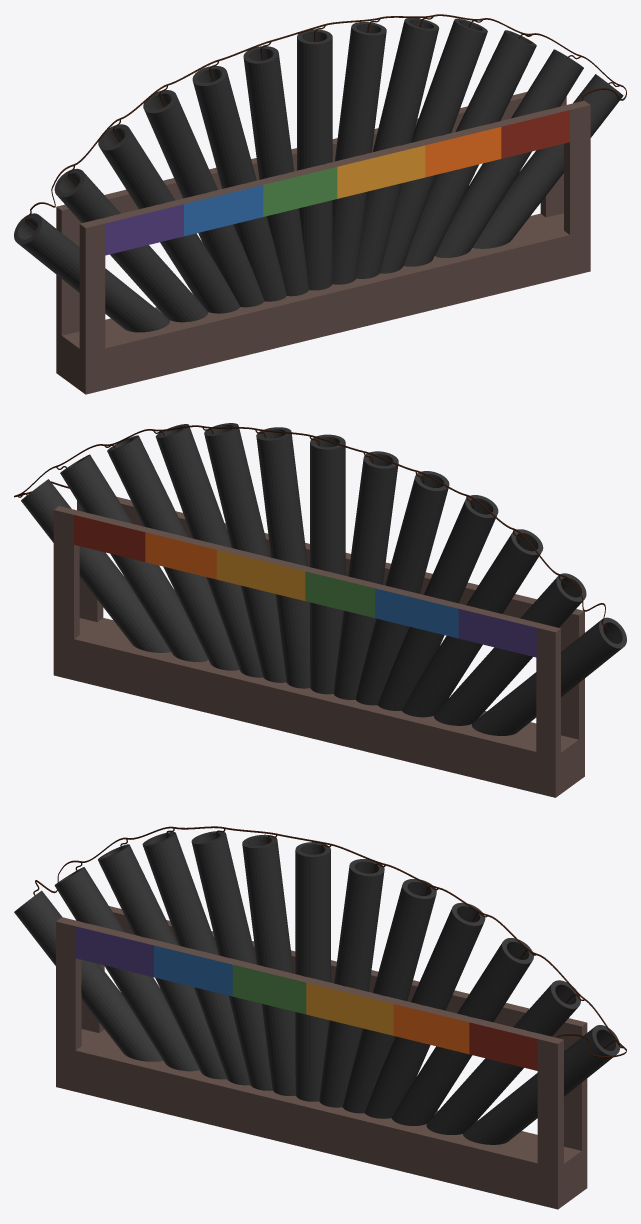
File: Rainbow13Rack.fbx
3 views of the same model, one above another, from view 1: azimuth 30°, elevation 25°; view 2: azimuth 150°, elevation 25°; view 3: azimuth 330°, elevation 25° (orthographic).
Parts seen in each view (by area): view 1: Cube, Cylinder.001, Cylinder.012, Cylinder.003, Cylinder.002, Cylinder.005, Cylinder.006, Cylinder.004, Cylinder, Cylinder.007, Cylinder.008, Cylinder.010 (+3 smaller); view 2: Cube, Cylinder.001, Cylinder.012, Cylinder.003, Cylinder.002, Cylinder.005, Cylinder.006, Cylinder.004, Cylinder, Cylinder.008, Cylinder.007, Cylinder.010 (+3 smaller); view 3: Cube, Cylinder.012, Cylinder.002, Cylinder.004, Cylinder.001, Cylinder, Cylinder.003, Cylinder.005, Cylinder.007, Cylinder.006, Cylinder.010, Cylinder.008 (+3 smaller).
Part boxes in pixels (left/top/right/bottom): Cube: left=56, top=92, right=590, bottom=394; Cylinder.001: left=332, top=22, right=386, bottom=284; Cylinder.012: left=297, top=29, right=332, bottom=290; Cylinder.003: left=356, top=18, right=439, bottom=278; Cylinder.002: left=243, top=46, right=308, bottom=296; Cylinder.005: left=379, top=18, right=487, bottom=273; Cylinder.006: left=403, top=30, right=536, bottom=266; Cylinder.004: left=192, top=66, right=286, bottom=301; Cylinder: left=143, top=90, right=264, bottom=307; Cylinder.007: left=98, top=124, right=240, bottom=313; Cylinder.008: left=435, top=49, right=583, bottom=257; Cylinder.010: left=54, top=168, right=208, bottom=322; Cube: left=53, top=496, right=584, bottom=797; Cylinder.001: left=256, top=427, right=310, bottom=688; Cylinder.012: left=310, top=434, right=345, bottom=694; Cylinder.003: left=204, top=423, right=286, bottom=682; Cylinder.002: left=333, top=451, right=398, bottom=699; Cylinder.005: left=155, top=424, right=262, bottom=677; Cylinder.006: left=107, top=435, right=239, bottom=670; Cylinder.004: left=355, top=471, right=449, bottom=705; Cylinder: left=378, top=495, right=498, bottom=710; Cylinder.008: left=60, top=454, right=208, bottom=661; Cylinder.007: left=401, top=529, right=543, bottom=717; Cylinder.010: left=434, top=573, right=586, bottom=725; Cube: left=56, top=906, right=587, bottom=1209; Cylinder.012: left=295, top=842, right=330, bottom=1101; Cylinder.002: left=242, top=834, right=295, bottom=1095; Cylinder.004: left=191, top=831, right=272, bottom=1090; Cylinder.001: left=319, top=859, right=384, bottom=1107; Cylinder: left=142, top=832, right=250, bottom=1085; Cylinder.003: left=342, top=879, right=436, bottom=1113; Cylinder.005: left=365, top=902, right=485, bottom=1118; Cylinder.007: left=98, top=844, right=226, bottom=1079; Cylinder.006: left=391, top=938, right=533, bottom=1125; Cylinder.010: left=54, top=867, right=199, bottom=1071; Cylinder.008: left=426, top=980, right=580, bottom=1134.
Size of the model in its own units: 593 by 273 by 49.47.
